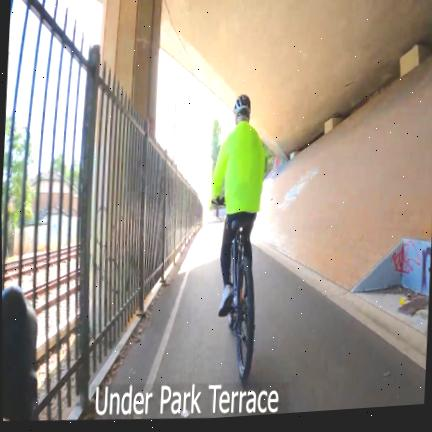Bike_Lane: (142, 246, 426, 419)
